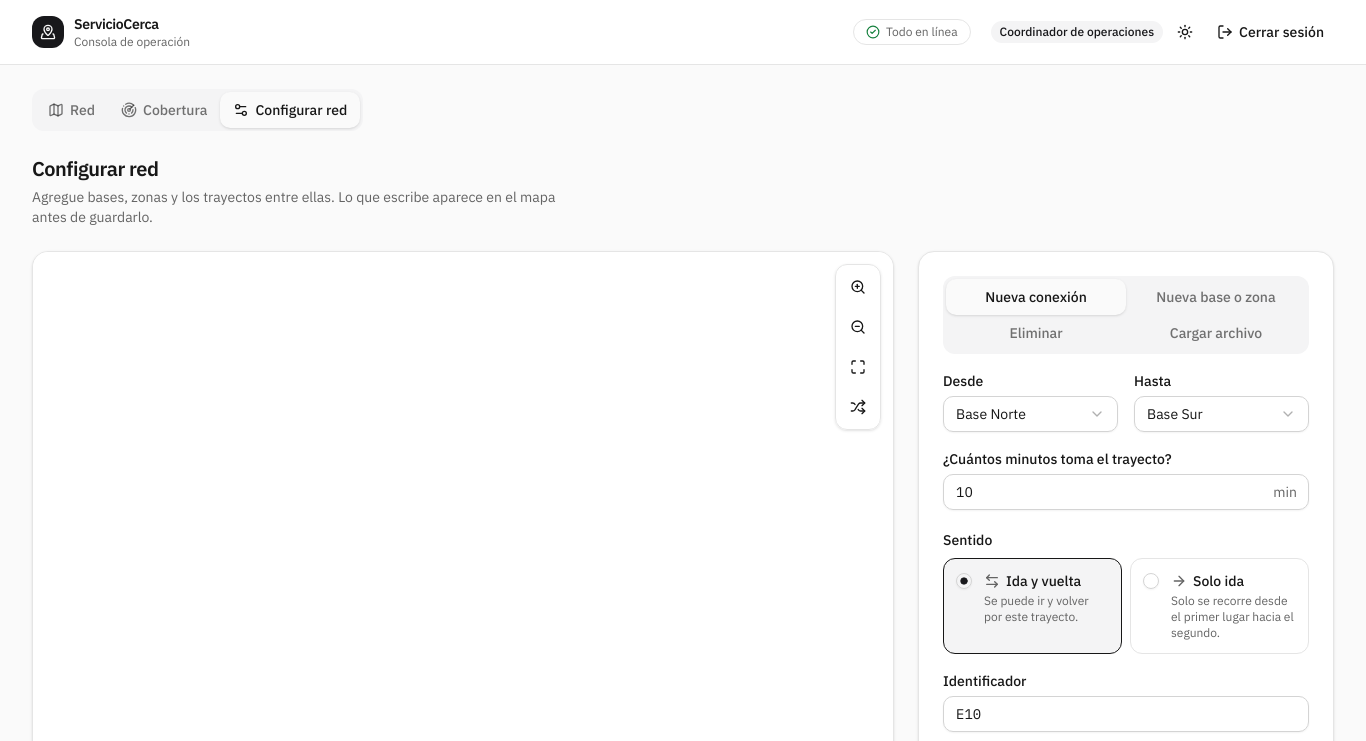
Test: Nueva base o zona › una zona no lleva técnicos
Expected: the heading "Configurar red" is shown, [32,155,158,182]
Click the tab "Nueva base o zona": (1216, 297) [1126,279,1306,315]
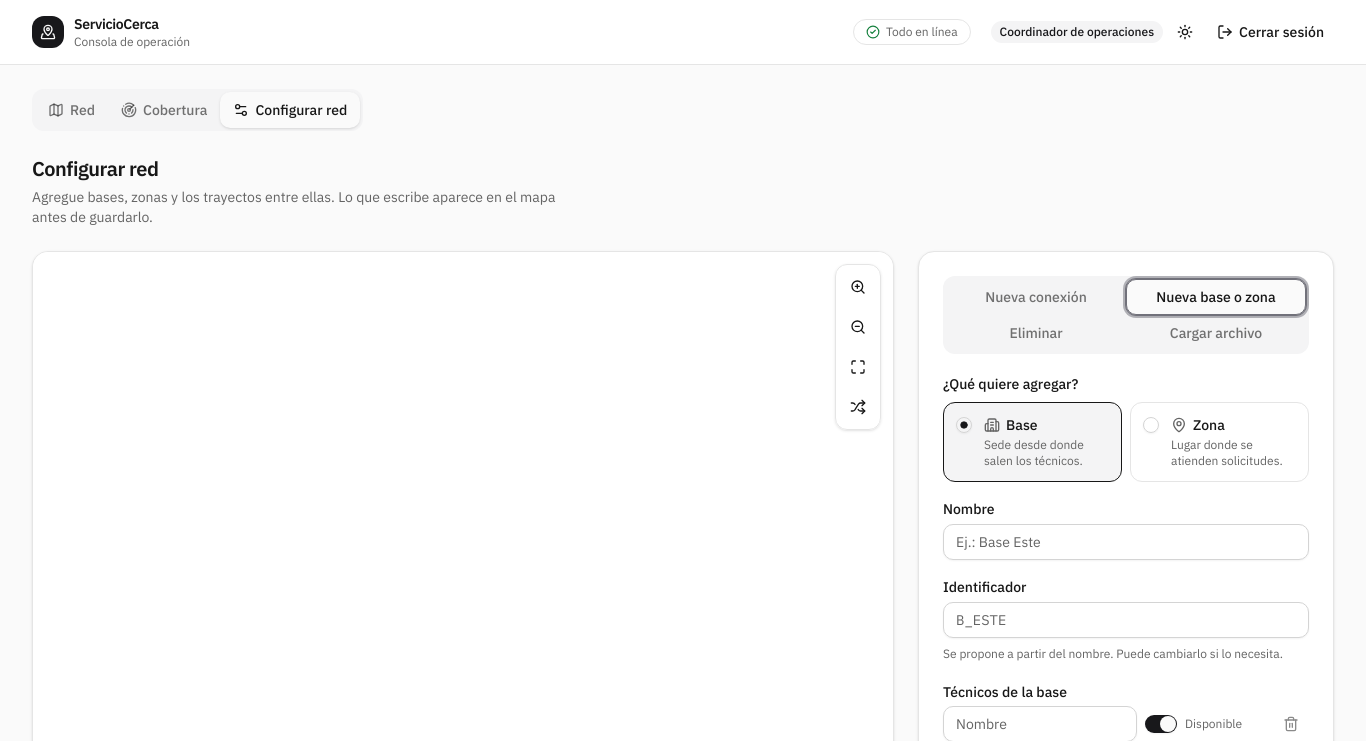
Click the 2nd radio button named "Zona": (1151, 425) [1143,417,1159,433]
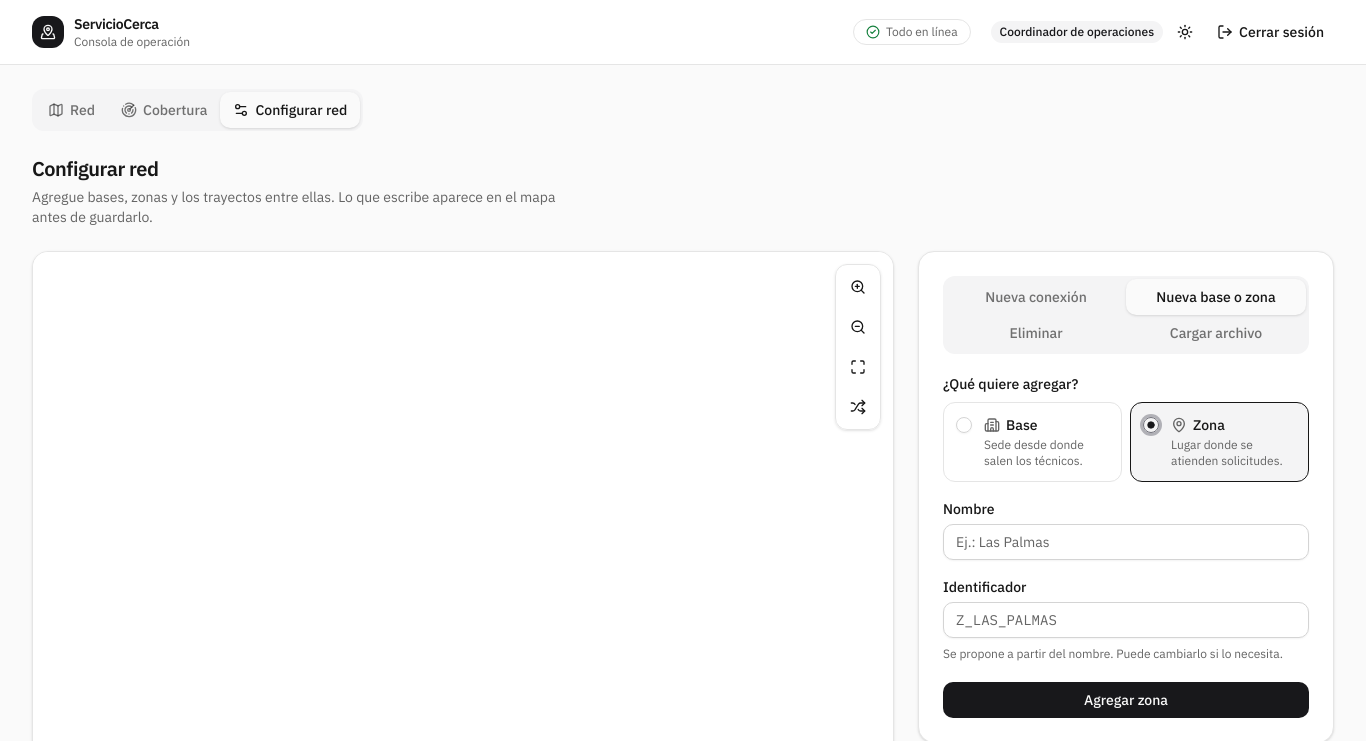
Now the text "Técnicos de la base" is gone
In the field labelled "Nombre": (1126, 542) [943,524,1309,560], type "Las Palmas"
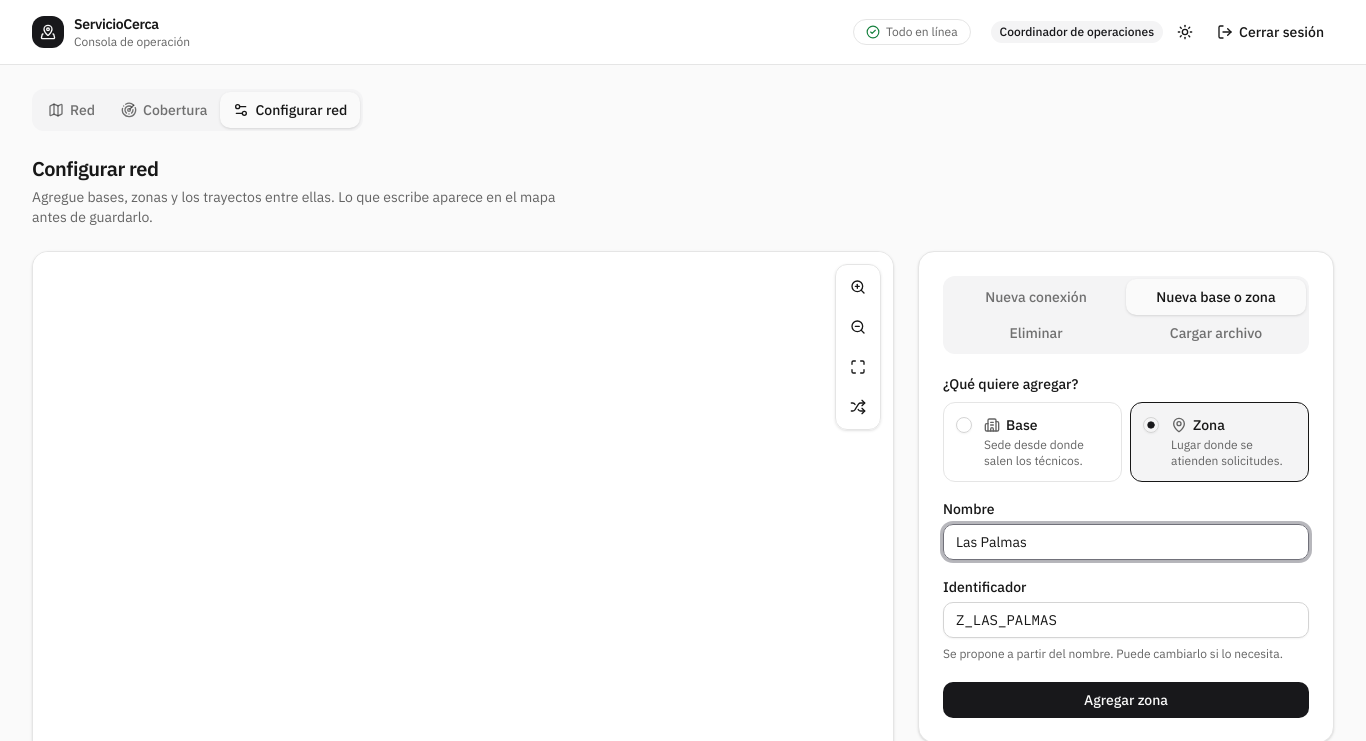
Now the field labelled "Identificador" holds "Z_LAS_PALMAS", box [943,602,1309,638]
Click the button "Agregar zona": (1126, 700) [943,682,1309,718]
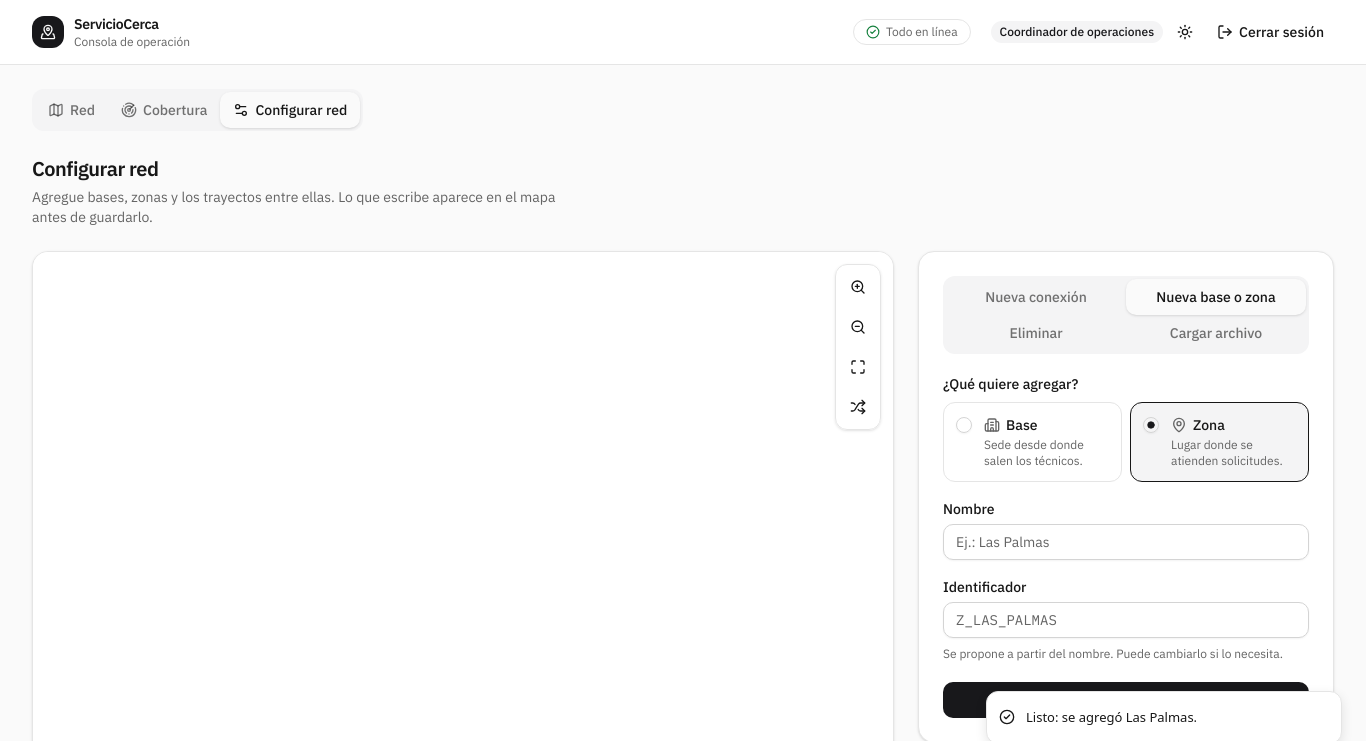
Now the text "Listo: se agregó Las Palmas." is shown, box [1026,708,1197,727]
